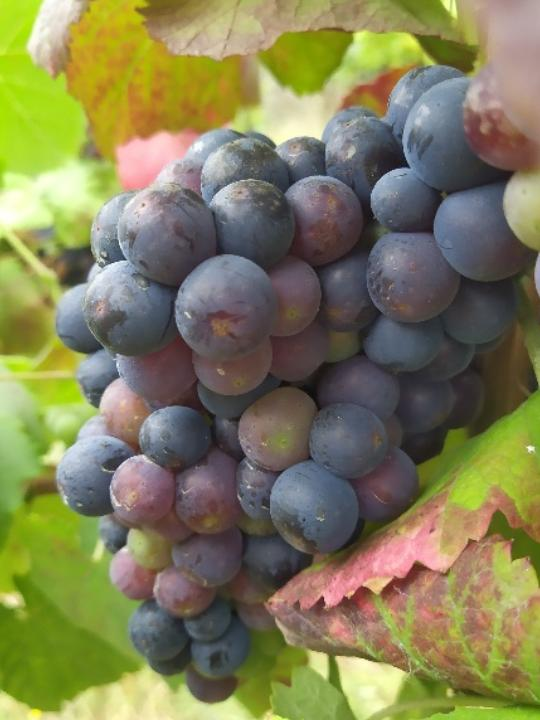grape: (43, 68, 537, 704)
